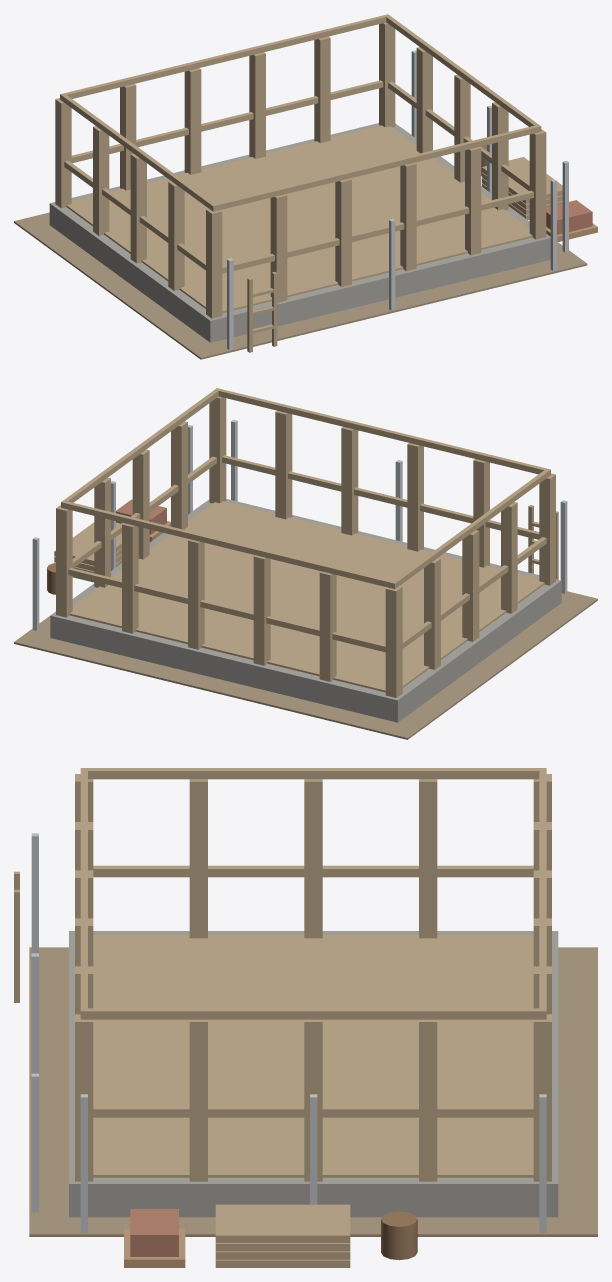
The model's file is winery_site_4.glb.
3 views of the same model, one above another, from view 1: azimuth 30°, elevation 25°; view 2: azimuth 150°, elevation 25°; view 3: azimuth 270°, elevation 25° (orthographic). The views are drawn at different scales.
Visible parts, largest first — view 1: body; view 2: body; view 3: body.
Part boxes in pixels (x1,y1,x2,y2): body: (14,14,597,359); body: (14,388,597,739); body: (14,768,597,1267).
Size of the model in its own units: 2.46 by 0.7352 by 1.91.
